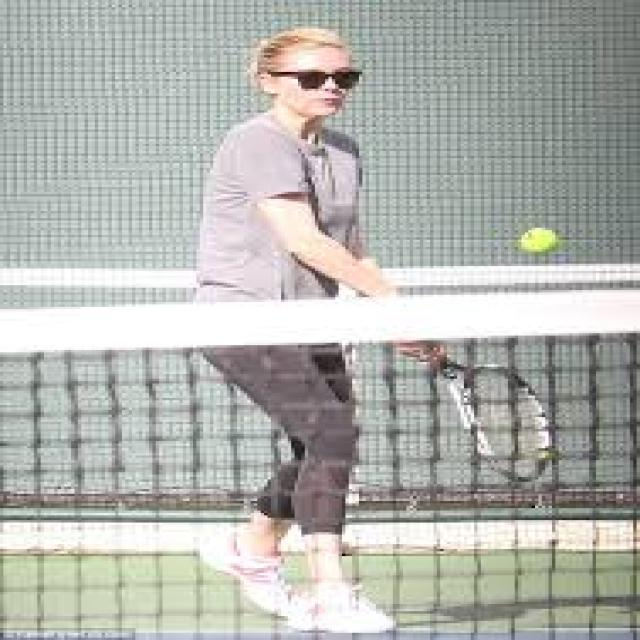ball: (519, 226, 560, 255)
